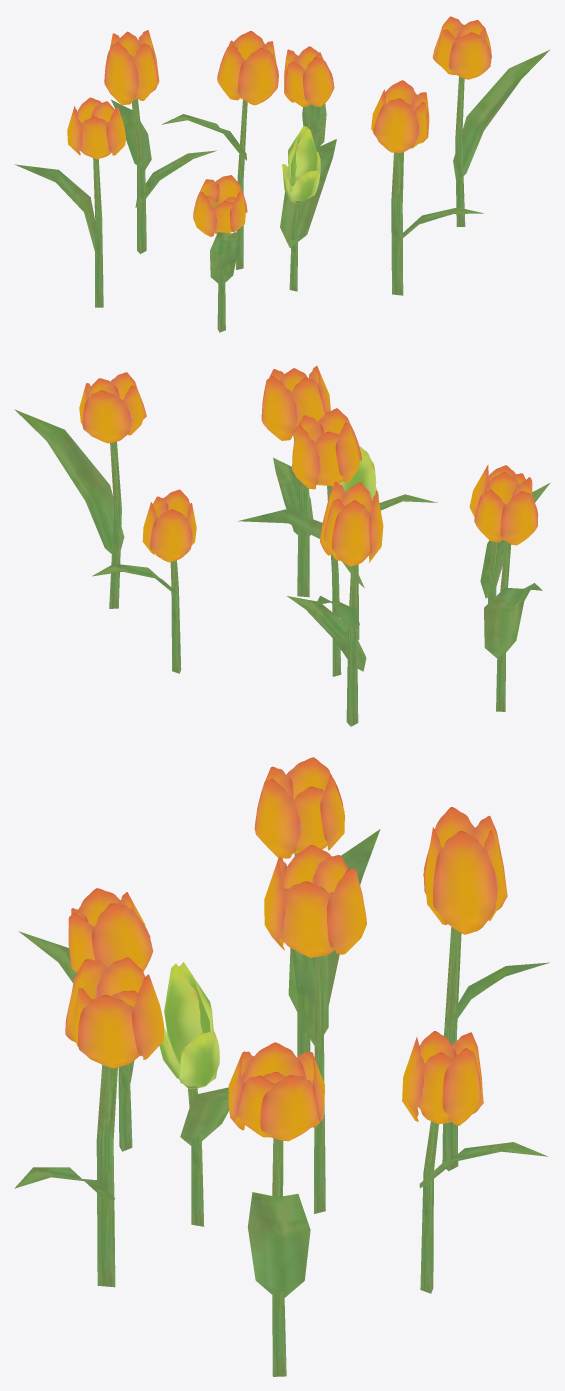
File: P_TulipsOrange.obj
3 renders of one model, top to bottom at view 1: azimuth 30°, elevation 25°; view 2: azimuth 150°, elevation 25°; view 3: azimuth 270°, elevation 25°, orthographic. The views are drawn at different scales.
Size of the model in its own units: 2.34 by 1.01 by 1.35.
